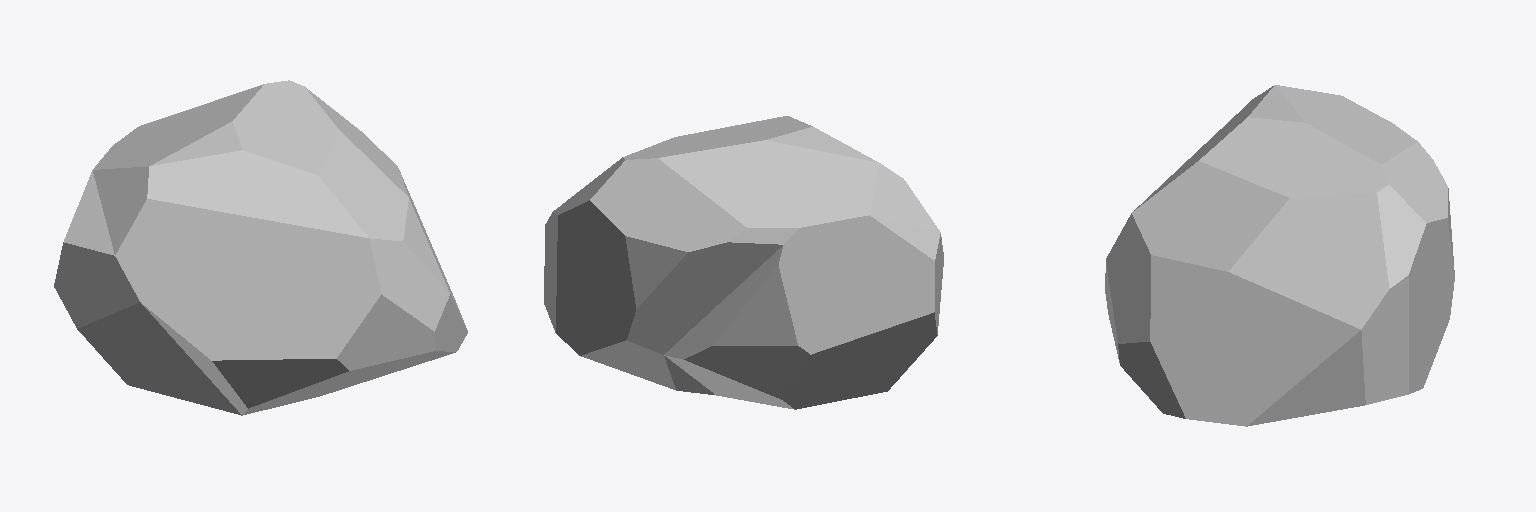
File: Prop_Decorative_Rock_2.obj
3 renders of one model, left to right at view 1: azimuth 30°, elevation 25°; view 2: azimuth 150°, elevation 25°; view 3: azimuth 270°, elevation 25°, orthographic.
Visible parts, largest first — view 1: Rock; view 2: Rock; view 3: Rock.
Part boxes in pixels (bbox=[...]): Rock: bbox=[54, 80, 467, 415]; Rock: bbox=[544, 116, 943, 409]; Rock: bbox=[1105, 85, 1454, 426].
Bounding box in the file's own units: 1.22 × 0.8107 × 1.01.